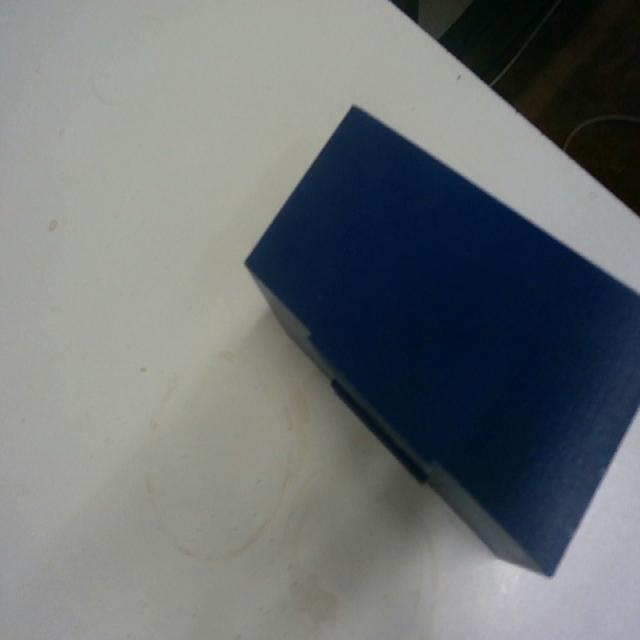Blue Cuboid: (242, 100, 639, 579)
